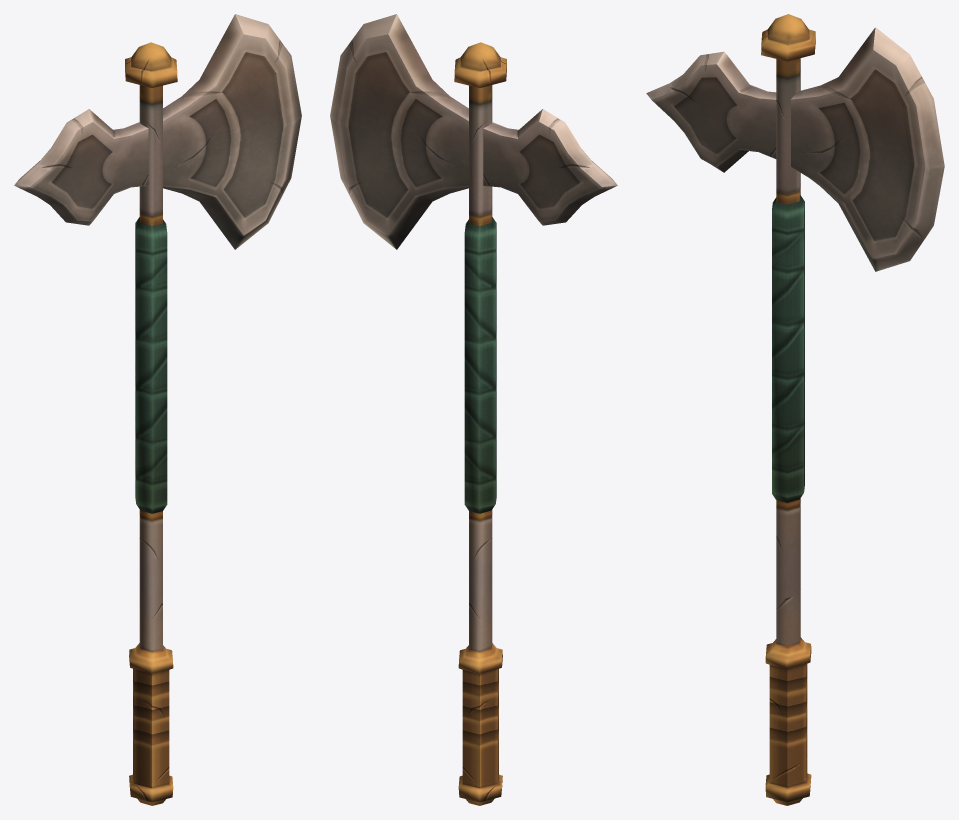
File: Warrior_axe.FBX
The picture shows the model from 3 angles, left to right: view 1: azimuth 30°, elevation 25°; view 2: azimuth 150°, elevation 25°; view 3: azimuth 330°, elevation 25°; orthographic projection. The views are drawn at different scales.
Parts seen in each view (by area): view 1: Warrior_axe; view 2: Warrior_axe; view 3: Warrior_axe.
Boxes of the visible parts, box(x1,y1,x2,y2) form: Warrior_axe: box(14, 14, 301, 805); Warrior_axe: box(330, 14, 617, 805); Warrior_axe: box(646, 14, 944, 805).
Size of the model in its own units: 0.5027 by 1.28 by 0.0825.
